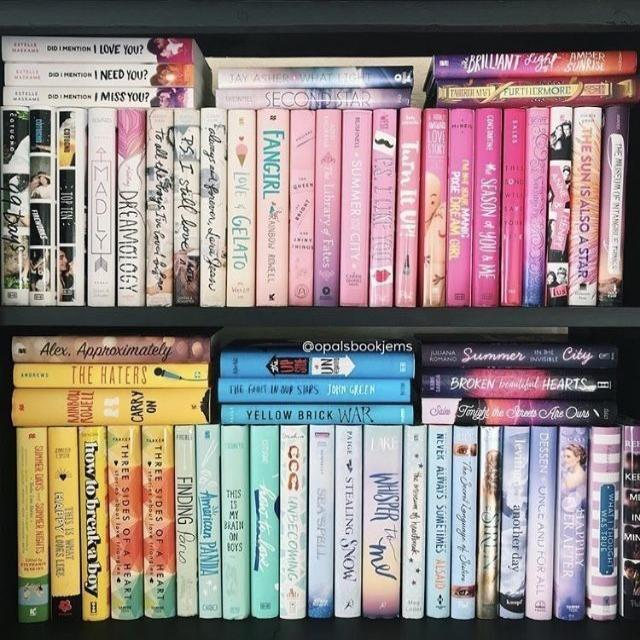book: (363, 426, 402, 618), (12, 389, 210, 424), (554, 428, 590, 620), (108, 425, 143, 618), (438, 74, 640, 107), (142, 424, 176, 617), (339, 109, 372, 307), (570, 107, 602, 306), (48, 428, 80, 623), (599, 107, 630, 306), (257, 109, 288, 307), (17, 427, 48, 622), (526, 428, 557, 620), (472, 109, 502, 307), (1, 106, 30, 306), (500, 426, 530, 618), (313, 109, 341, 306), (545, 108, 573, 305), (434, 52, 637, 79), (79, 426, 107, 621), (423, 370, 615, 398), (369, 109, 396, 307), (447, 109, 474, 306), (422, 398, 617, 425), (451, 426, 478, 620), (220, 352, 414, 379), (251, 426, 278, 619), (30, 107, 56, 306), (118, 108, 144, 306), (12, 336, 210, 362), (228, 110, 254, 307), (57, 108, 83, 304), (89, 109, 115, 305), (402, 424, 428, 619), (196, 425, 222, 618), (592, 427, 618, 619), (396, 108, 421, 307), (147, 109, 172, 307), (423, 109, 448, 307), (524, 109, 549, 307), (501, 109, 526, 306), (422, 344, 618, 369), (14, 363, 209, 388), (478, 426, 503, 619), (281, 426, 306, 619), (201, 108, 225, 307), (2, 38, 192, 63), (223, 426, 247, 619), (337, 426, 360, 618), (310, 426, 333, 618), (174, 426, 197, 617), (5, 63, 194, 86), (176, 109, 198, 306), (219, 379, 410, 401), (428, 426, 449, 619), (292, 110, 312, 306), (217, 67, 413, 87), (4, 87, 193, 107), (222, 405, 413, 424), (216, 90, 410, 108), (623, 426, 640, 617)
